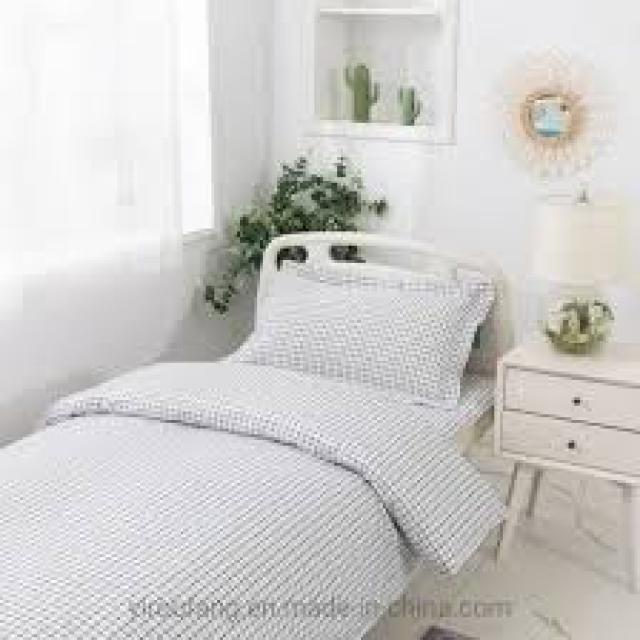bed: (0, 228, 514, 637)
